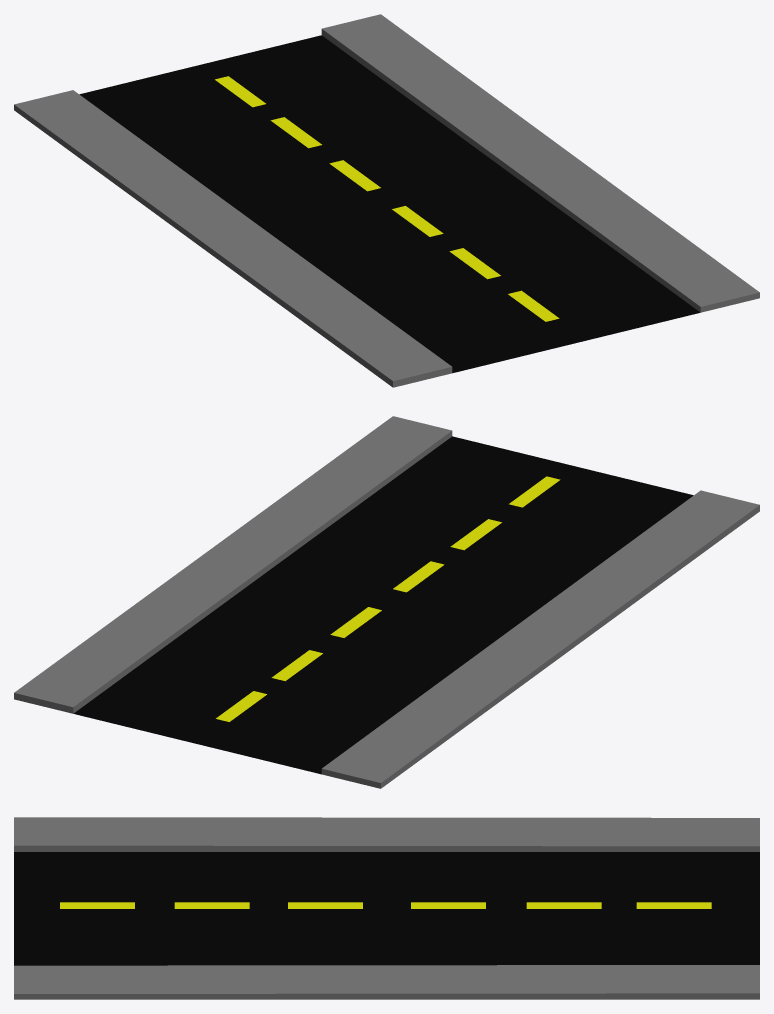
Rendered from Straight Road with no in between lines.fbx.
3 renders of one model, top to bottom at view 1: azimuth 30°, elevation 25°; view 2: azimuth 150°, elevation 25°; view 3: azimuth 270°, elevation 25°, orthographic.
Parts seen in each view (by area): view 1: polySurface412; view 2: polySurface412; view 3: polySurface412.
Boxes of the visible parts, x1,y1,x2,y2 form: polySurface412: (14, 14, 759, 387); polySurface412: (14, 416, 759, 788); polySurface412: (14, 817, 759, 999).
Bounding box in the file's own units: 12.39 × 0.2121 × 22.17.
